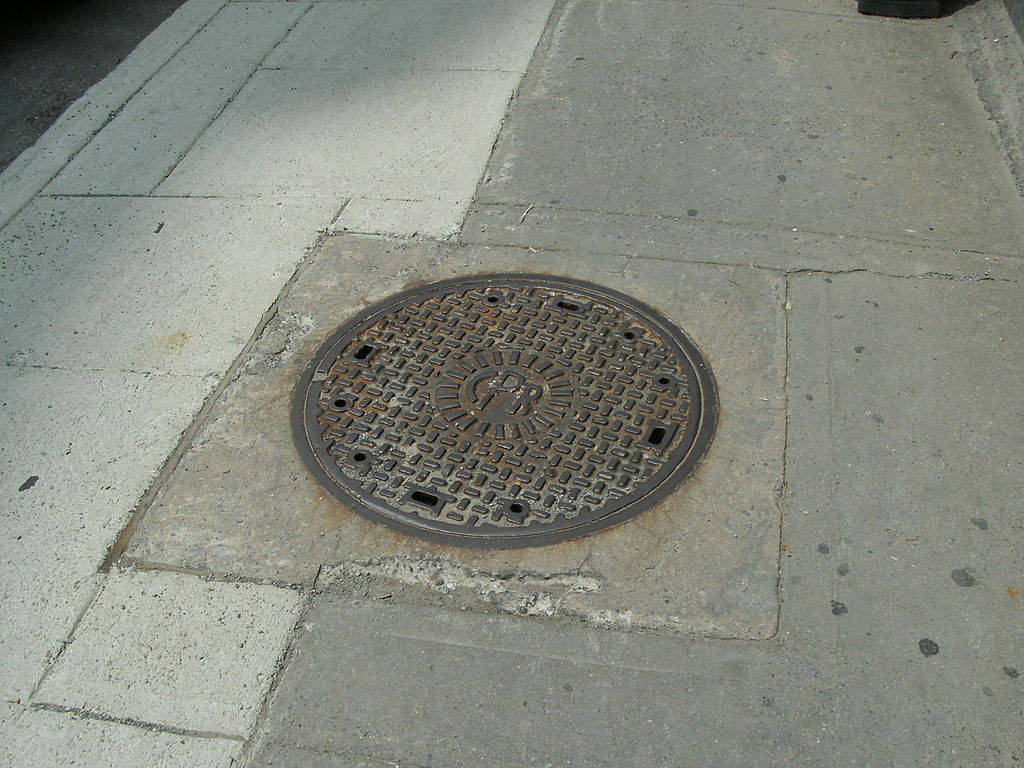Manhole-Closed: (287, 260, 732, 574)
